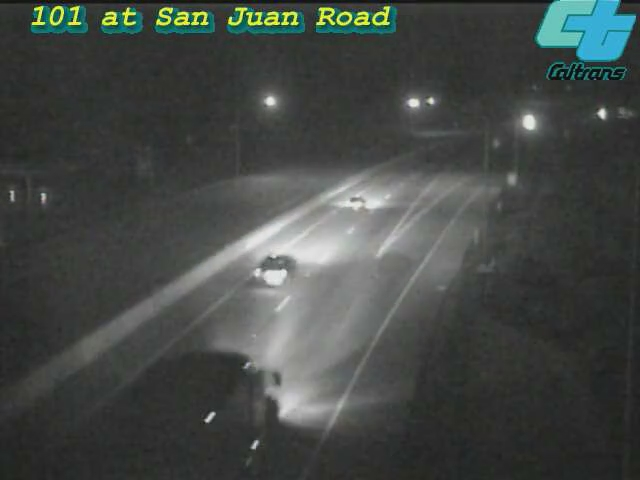vehicle: (139, 375, 249, 480), (315, 161, 395, 241), (242, 225, 322, 305), (503, 97, 553, 147), (578, 89, 628, 139), (607, 89, 640, 139)
